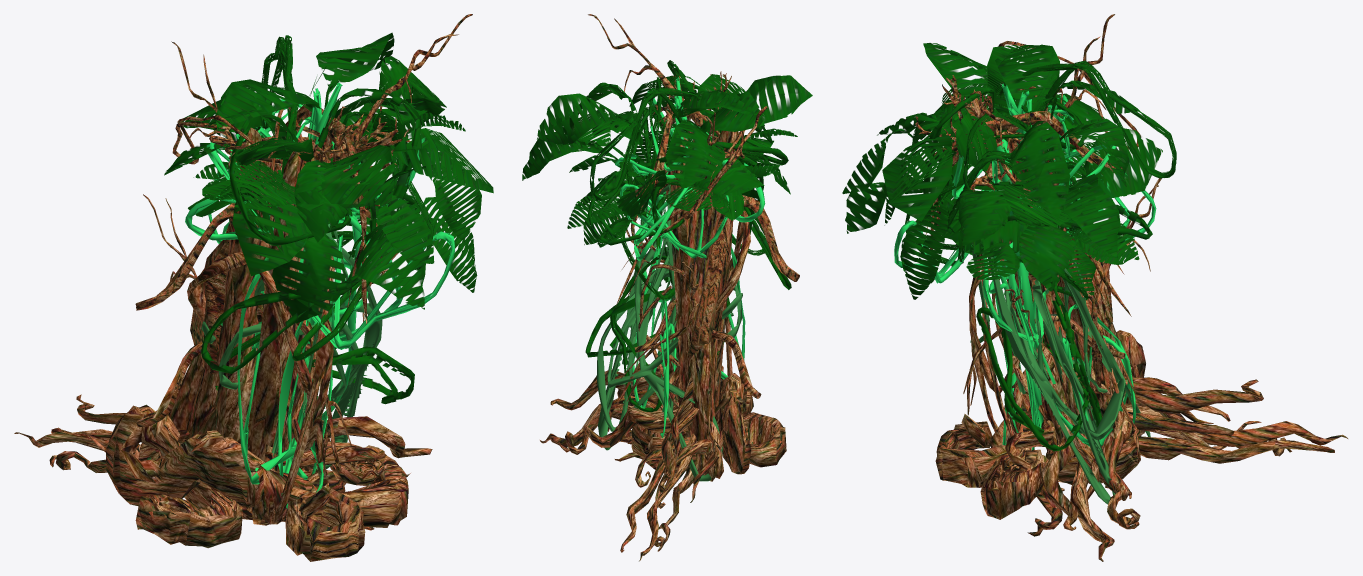
Rendered from 1worldtree.one.glb.
3 renders of one model, left to right at view 1: azimuth 30°, elevation 25°; view 2: azimuth 150°, elevation 25°; view 3: azimuth 270°, elevation 25°, orthographic. The views are drawn at different scales.
Visible parts, largest first — view 1: jump_rope_246.009, leaf_010_mesh.005, coral.008; view 2: jump_rope_246.009, leaf_010_mesh.005, coral.008; view 3: leaf_010_mesh.005, jump_rope_246.009, coral.008.
Part boxes in pixels (<box>): jump_rope_246.009: <box>14,127,432,561</box>; leaf_010_mesh.005: <box>164,32,493,404</box>; coral.008: <box>135,14,472,373</box>; jump_rope_246.009: <box>540,108,786,561</box>; leaf_010_mesh.005: <box>522,60,812,412</box>; coral.008: <box>588,14,799,358</box>; leaf_010_mesh.005: <box>842,43,1176,451</box>; jump_rope_246.009: <box>935,89,1347,561</box>; coral.008: <box>915,14,1141,336</box>.
Bounding box in the file's own units: 1.49 × 2.26 × 2.2.
Materials: 9 (6 with a texture image).
